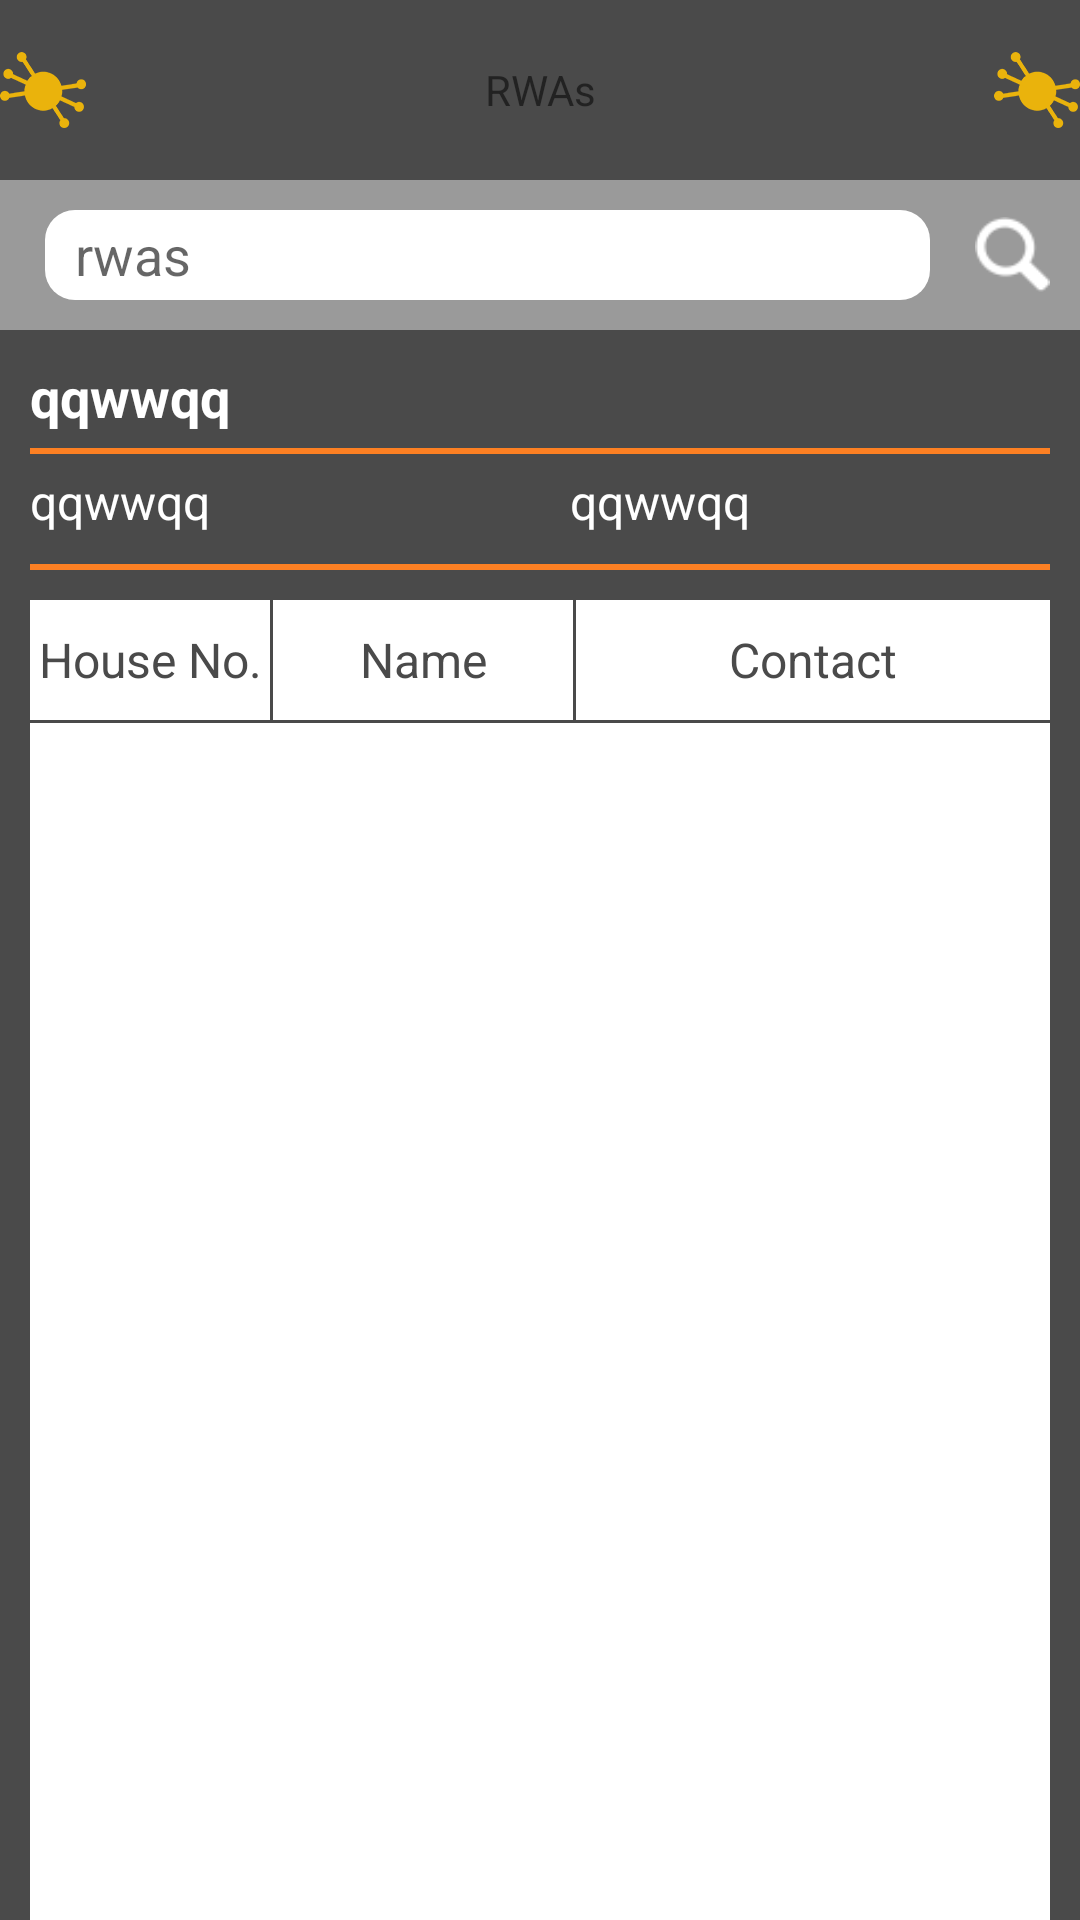

Icon bounding boxes for this 1080px×1920px phone screenshot, format (x1, y1, x2, y2):
search: (975, 217, 1050, 291)
